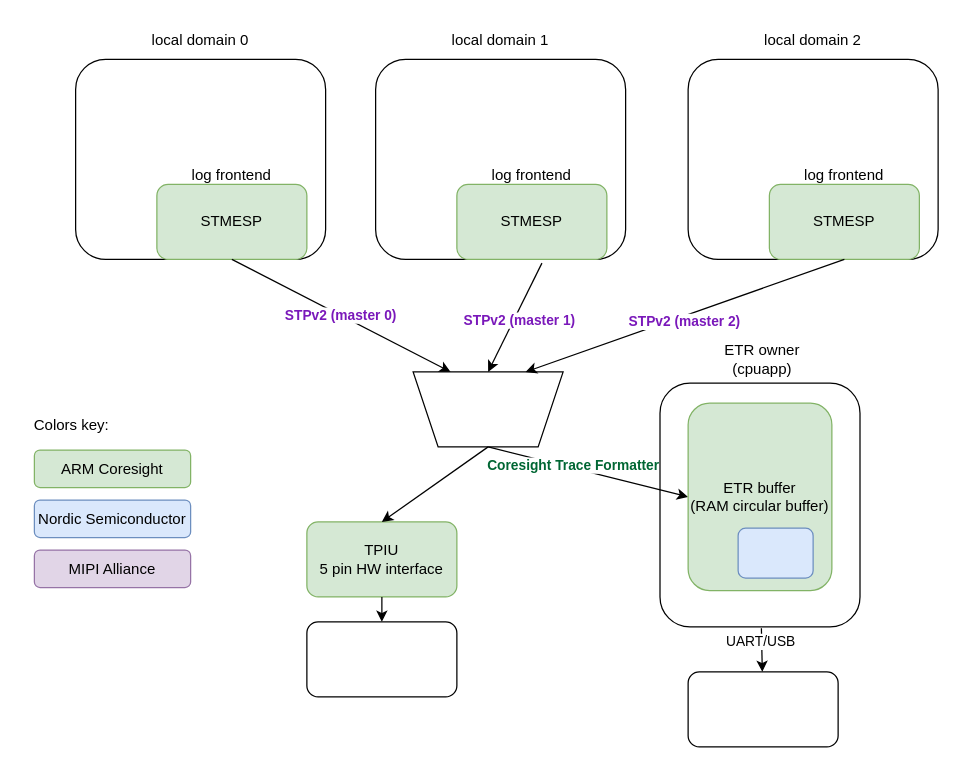
This 971x769 diagram has some shape labels left out. Here are the shapes that lost their labels. From the top down, the box of each, then its label:
(737, 527, 813, 578): TBM
(306, 621, 457, 697): Host tool (e.g. J-Trace PRO)
(687, 671, 838, 747): Console/nrutil trace
